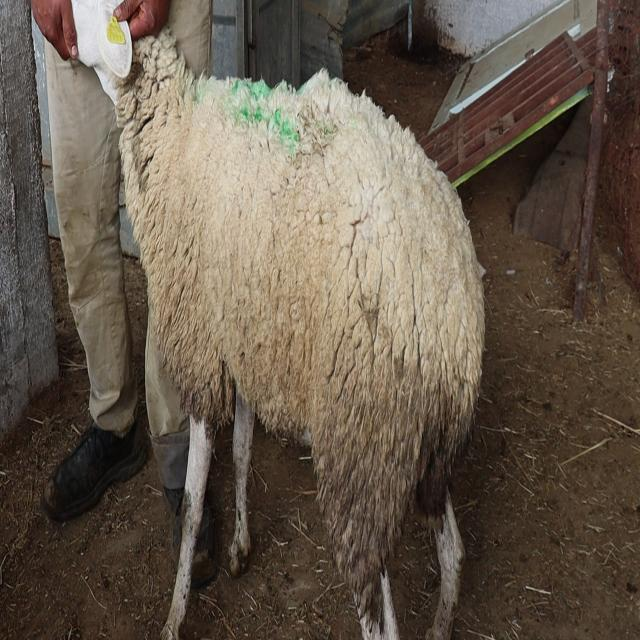Score_3: (72, 0, 485, 639)
